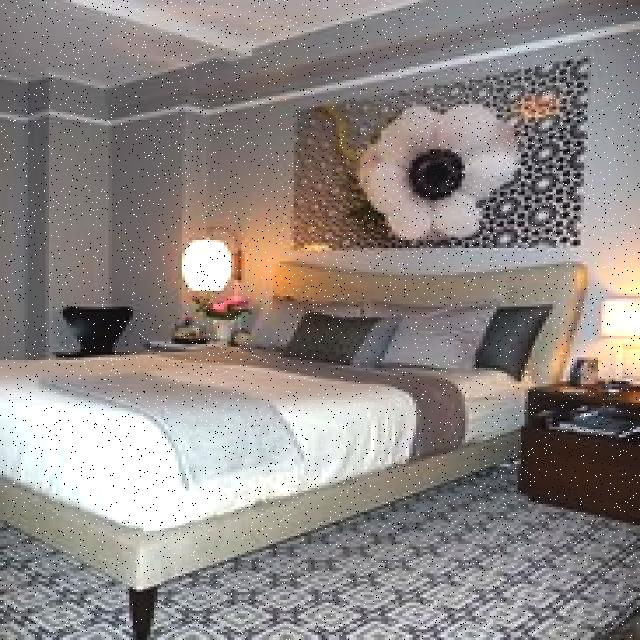bed: (0, 242, 590, 542)
